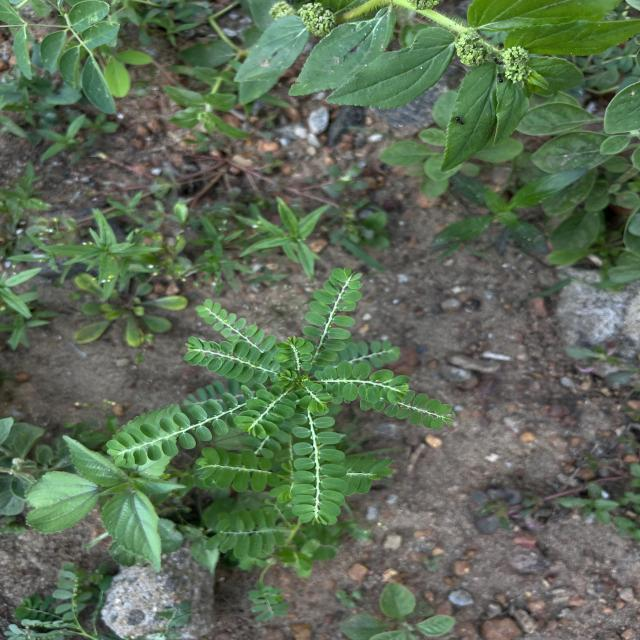Phyllanthus niruri: (103, 391, 252, 473), (286, 410, 351, 528), (300, 266, 366, 364), (178, 334, 277, 383), (314, 359, 415, 406), (196, 298, 276, 352), (231, 385, 298, 440)
